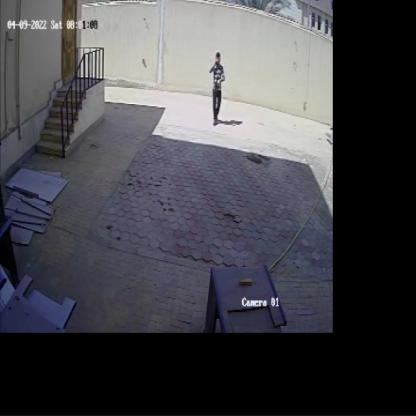handgun: (211, 72, 221, 103)
